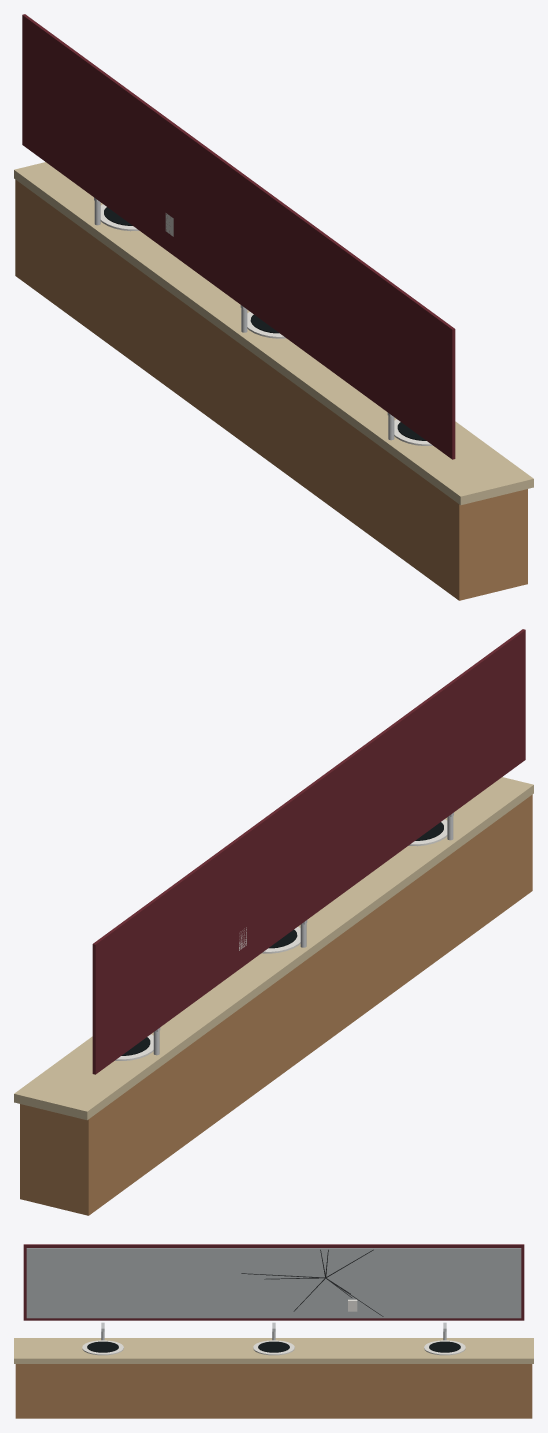
The model's file is SM_80s_BathSinks.glb.
3 renders of one model, top to bottom at view 1: azimuth 30°, elevation 25°; view 2: azimuth 150°, elevation 25°; view 3: azimuth 270°, elevation 25°, orthographic. The views are drawn at different scales.
Parts seen in each view (by area): view 1: SM_80s_BathSinks; view 2: SM_80s_BathSinks; view 3: SM_80s_BathSinks.
Part boxes in pixels (box(x1,y1,x2,y2)): SM_80s_BathSinks: box(14, 14, 533, 600); SM_80s_BathSinks: box(14, 629, 533, 1215); SM_80s_BathSinks: box(14, 1244, 533, 1418).
Size of the model in its own units: 0.62 by 2.15 by 6.54.
